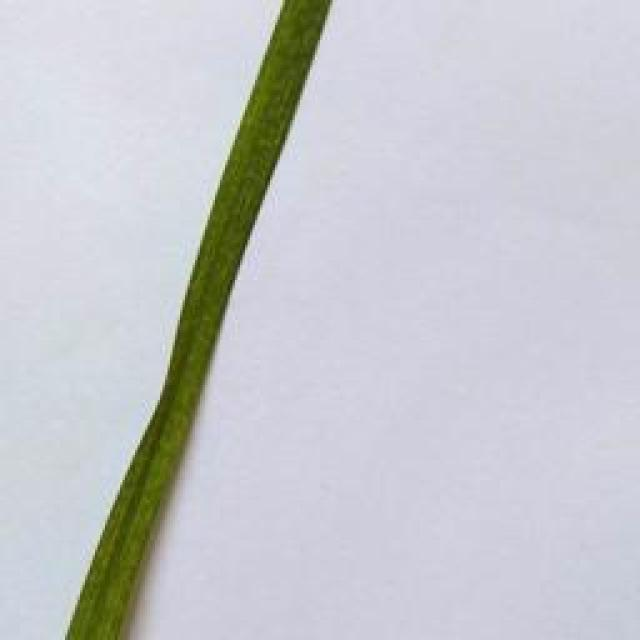Healthy-Plant: (68, 0, 333, 640)
